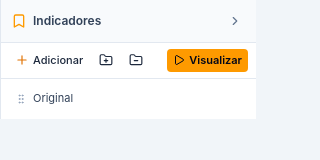
BookmarksPane › duplo clique no nome entra em edição; digitar e confirmar renomeia, e o campo cabe em 1366×768 (largura > 60px)
This screenshot has width=320, height=160.
Double-click the text "Original".
double_click(53, 98)  # box top-left (33, 91), bottom-right (73, 105)
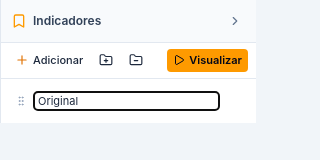
Replace the text in the field named "Renomear indicador" with "Renomeado" at (126, 101), box top-left (33, 91), bottom-right (220, 111)
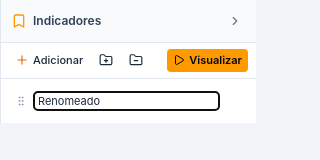
Press Enter in the field named "Renomear indicador", box top-left (33, 91), bottom-right (220, 111)
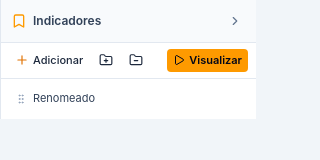
Expected: the text "Renomeado" is shown, top-left (33, 91), bottom-right (95, 105)
